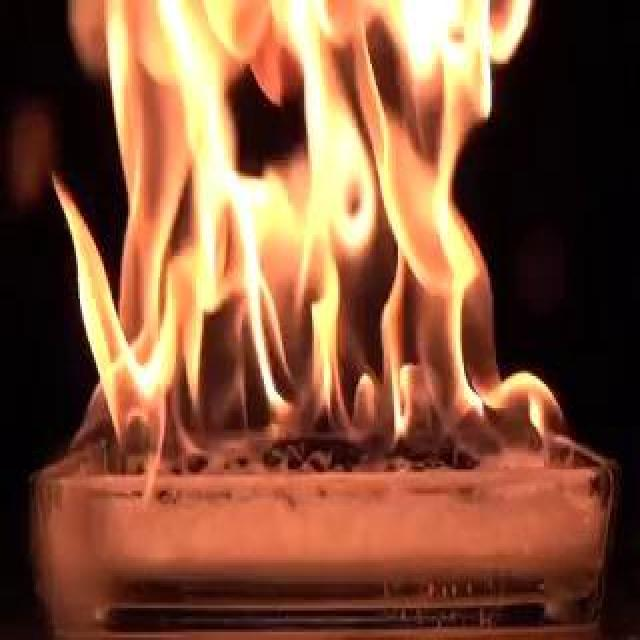Fire: (284, 254, 526, 504)
